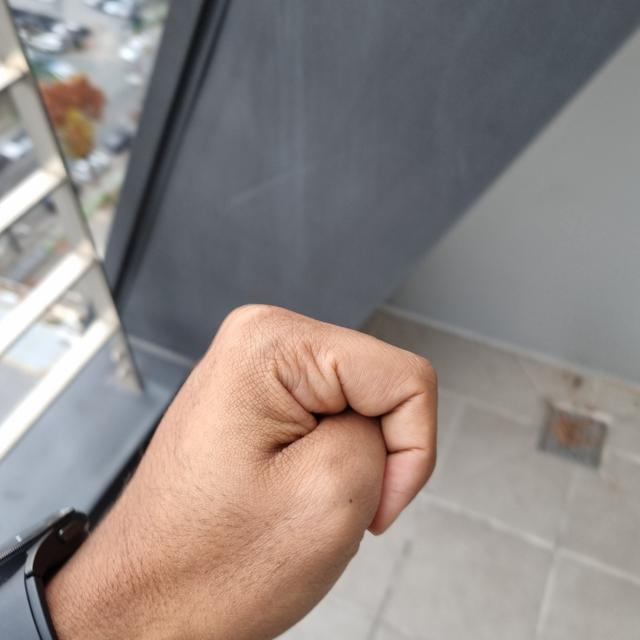Rock: (57, 308, 435, 639)
